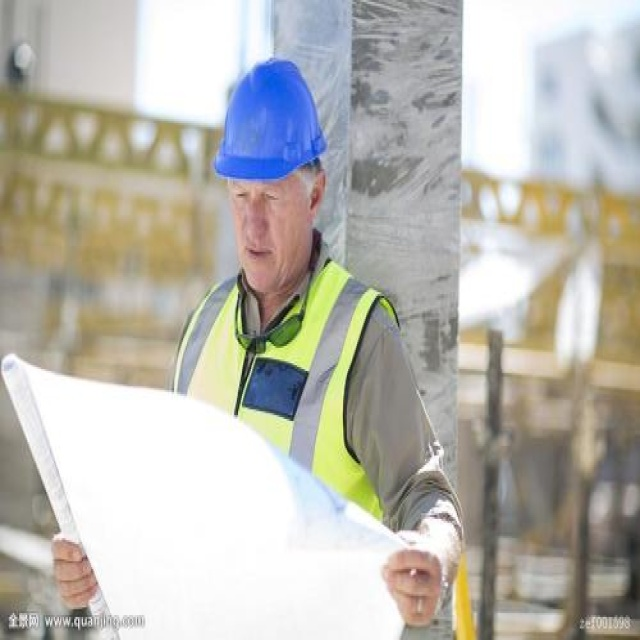Helmet: (202, 49, 355, 319)
Reflective vest: (171, 257, 400, 532)
